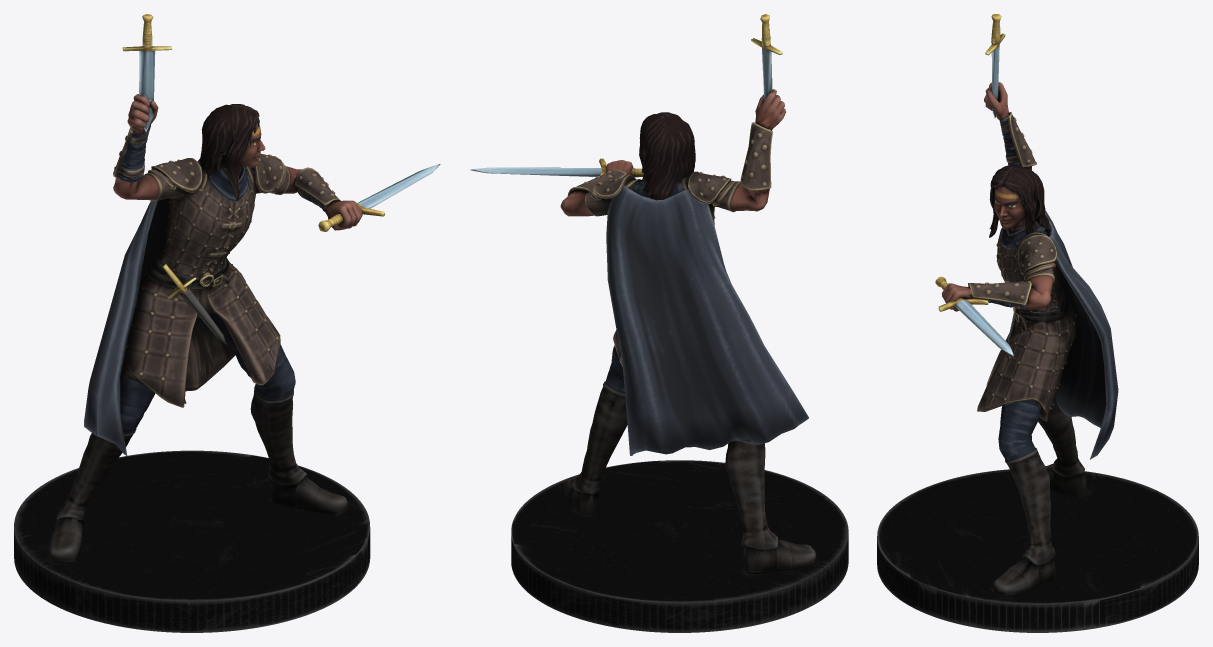
Rendered from MZ4250 - Human Rogue (Molliver).glb.
3 views of the same model, side by side, from view 1: azimuth 30°, elevation 25°; view 2: azimuth 150°, elevation 25°; view 3: azimuth 270°, elevation 25° (orthographic). The views are drawn at different scales.
Parts seen in each view (by area): view 1: base_low.001, body_low.001, cape_low.001, dagger_low.001; view 2: base_low.001, cape_low.001, body_low.001, dagger_low.001; view 3: base_low.001, body_low.001, cape_low.001, dagger_low.001.
Boxes of the visible parts, bbox=[...] form: base_low.001: bbox=[14, 450, 370, 632]; body_low.001: bbox=[49, 94, 362, 563]; cape_low.001: bbox=[84, 198, 186, 455]; dagger_low.001: bbox=[122, 14, 440, 344]; base_low.001: bbox=[511, 460, 848, 632]; cape_low.001: bbox=[606, 186, 808, 455]; body_low.001: bbox=[560, 89, 816, 573]; dagger_low.001: bbox=[470, 14, 782, 177]; base_low.001: bbox=[877, 469, 1198, 632]; body_low.001: bbox=[941, 82, 1087, 596]; cape_low.001: bbox=[1045, 210, 1118, 459]; dagger_low.001: bbox=[935, 14, 1016, 355].
Bounding box in the file's own units: 5.6 × 7.91 × 4.43.
1 material, 1 textured.
